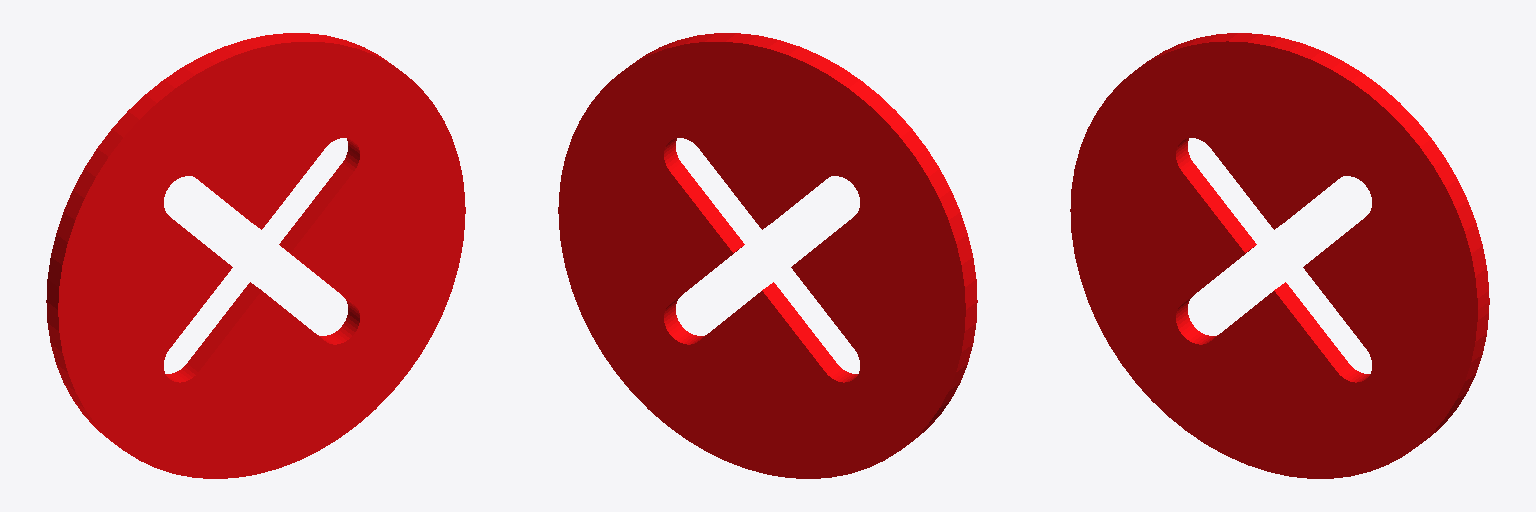
3 views of the same model, side by side, from view 1: azimuth 30°, elevation 25°; view 2: azimuth 150°, elevation 25°; view 3: azimuth 330°, elevation 25° (orthographic).
Visible parts, largest first — view 1: no; view 2: no; view 3: no.
Part boxes in pixels (left/top/right/bottom): no: left=46, top=33, right=465, bottom=478; no: left=558, top=33, right=977, bottom=478; no: left=1070, top=33, right=1489, bottom=478.
Bounding box in the file's own units: 2 × 2 × 0.1.
Materials: 1 (1 with a texture image).